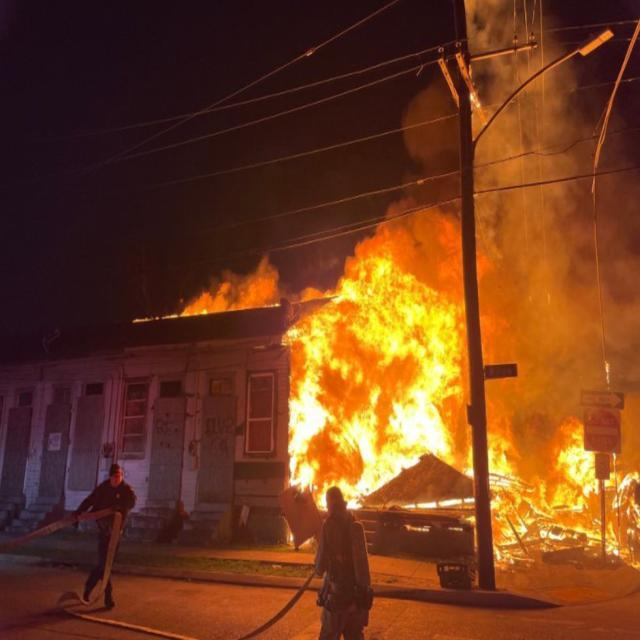Fire: (284, 212, 516, 508), (468, 404, 640, 566), (130, 250, 280, 324), (406, 524, 430, 531)
Smoke: (464, 0, 638, 420), (359, 86, 457, 244)
